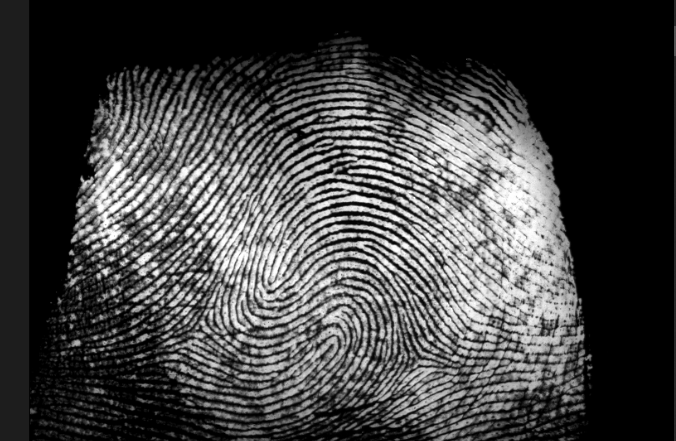deltas: (161, 296, 228, 354), (391, 329, 446, 387)
nucleo: (252, 259, 370, 356)
